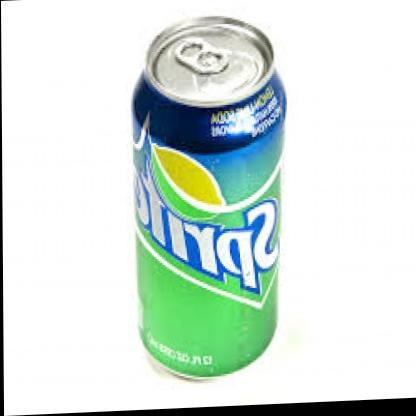trash: (133, 16, 285, 376)
